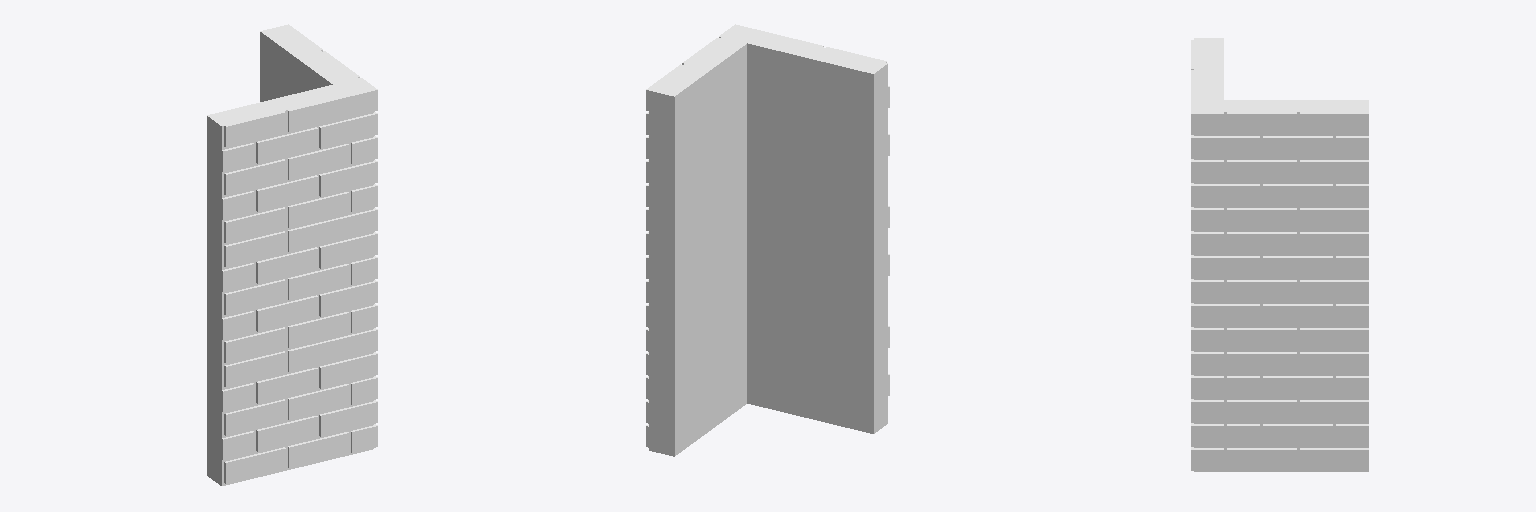
Rendered from brick_angle.obj.
3 views of the same model, side by side, from view 1: azimuth 30°, elevation 25°; view 2: azimuth 150°, elevation 25°; view 3: azimuth 270°, elevation 25° (orthographic).
Visible parts, largest first — view 1: object 1; view 2: object 1; view 3: object 1.
Part boxes in pixels (x1,y1,x2,y2): object 1: (207, 24, 377, 485); object 1: (646, 24, 889, 456); object 1: (1191, 38, 1368, 471).
Bounding box in the file's own units: 5.4 × 12 × 5.4.